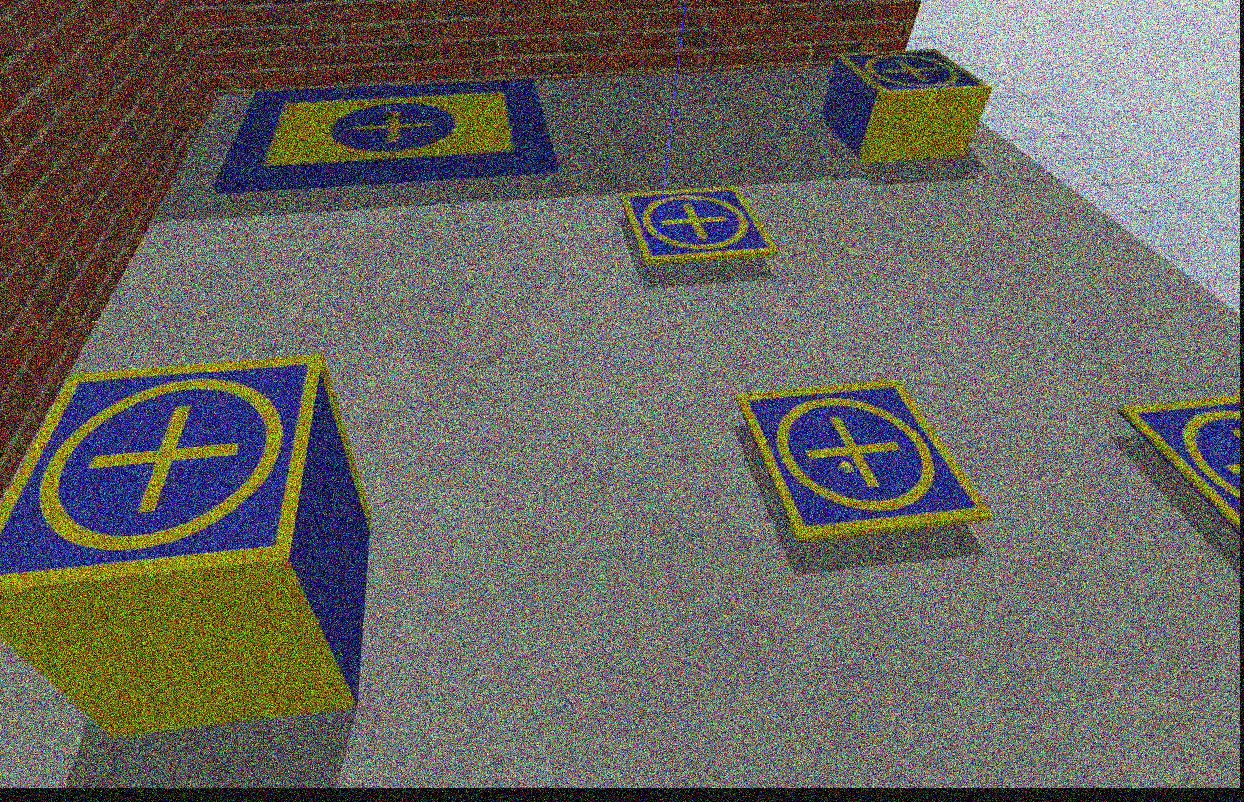large_base: (214, 77, 562, 194)
small_base: (0, 355, 330, 593), (732, 376, 997, 545), (1114, 394, 1244, 536), (620, 184, 779, 267), (836, 47, 992, 103)
